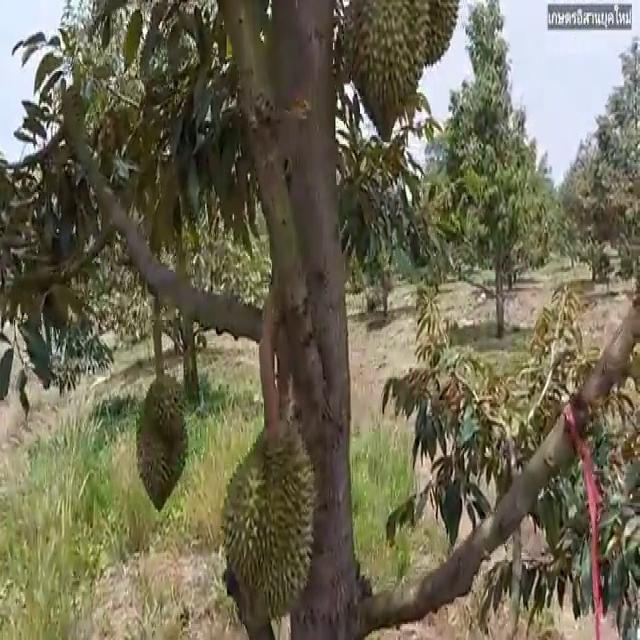durian: (220, 414, 320, 635), (336, 0, 434, 146), (132, 368, 192, 516)
